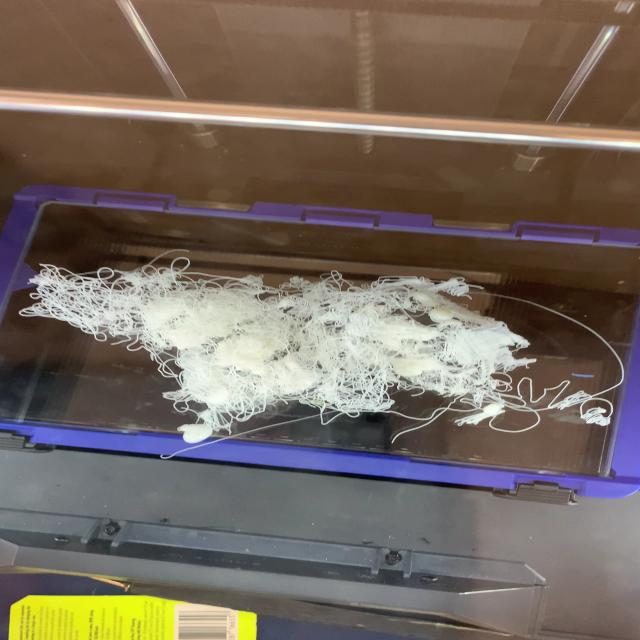spaghetti: (19, 250, 619, 448)
